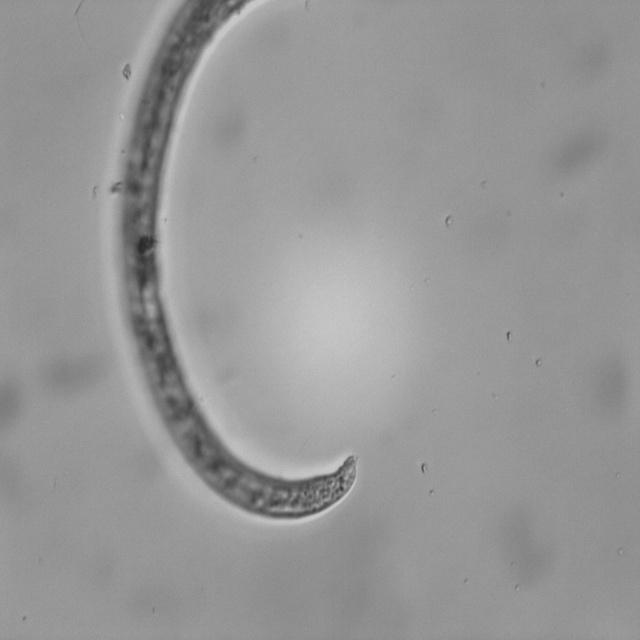Helicotylenchus: (222, 432, 362, 532)
